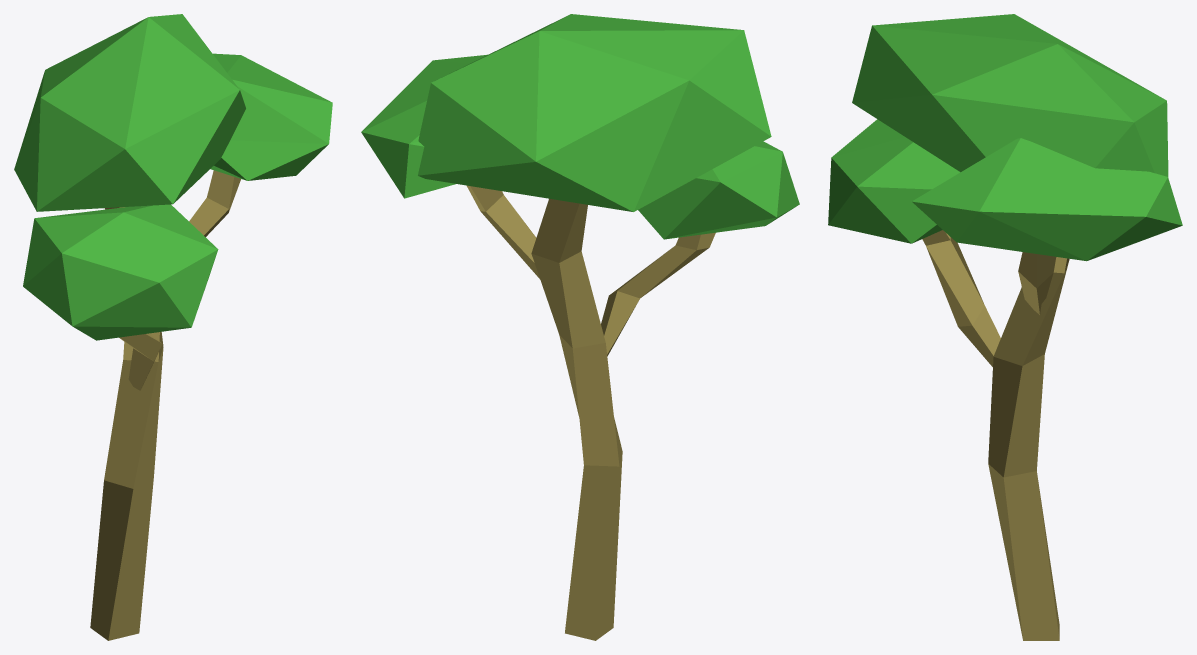
File: Tree_3.fbx
The picture shows the model from 3 angles, left to right: view 1: azimuth 30°, elevation 25°; view 2: azimuth 150°, elevation 25°; view 3: azimuth 270°, elevation 25°; orthographic projection. The views are drawn at different scales.
Parts seen in each view (by area): view 1: Leaves.002, Leaves.001, Trunk, Leaves, Trunk.001, Trunk.002; view 2: Leaves.002, Trunk, Leaves.001, Leaves, Trunk.002, Trunk.001; view 3: Leaves.002, Leaves, Trunk, Leaves.001, Trunk.002, Trunk.001.
Part boxes in pixels (x1,y1,x2,y2): Leaves.002: [14, 14, 245, 211]; Leaves.001: [23, 204, 218, 340]; Trunk: [90, 207, 163, 640]; Leaves: [210, 53, 332, 180]; Trunk.001: [189, 170, 240, 236]; Trunk.002: [119, 333, 162, 390]; Leaves.002: [418, 14, 771, 211]; Trunk: [531, 198, 622, 640]; Leaves.001: [638, 141, 799, 239]; Leaves: [361, 54, 487, 198]; Trunk.002: [601, 232, 715, 356]; Trunk.001: [467, 185, 540, 279]; Leaves.002: [852, 14, 1168, 176]; Leaves: [912, 138, 1182, 261]; Trunk: [988, 257, 1069, 640]; Leaves.001: [828, 119, 960, 243]; Trunk.002: [922, 230, 1000, 366]; Trunk.001: [1018, 252, 1056, 314].
Bounding box in the file's own units: 197 × 344 × 181.
